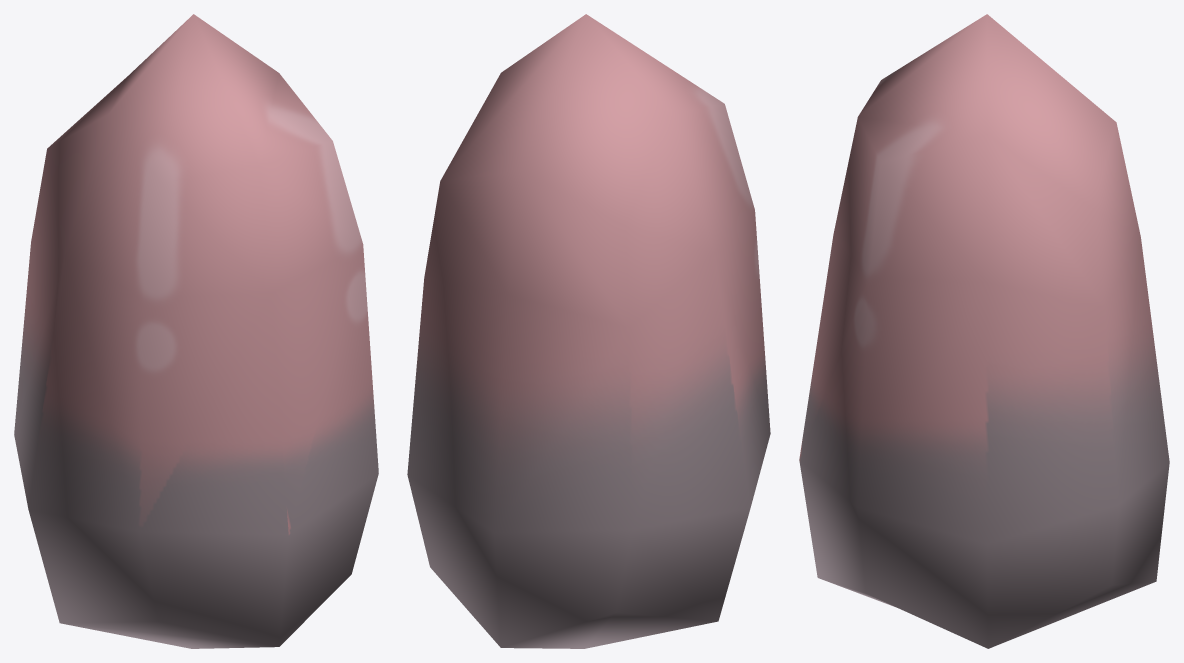
The model's file is Monstorsity.fbx.
The picture shows the model from 3 angles, left to right: view 1: azimuth 30°, elevation 25°; view 2: azimuth 150°, elevation 25°; view 3: azimuth 270°, elevation 25°; orthographic projection.
Visible parts, largest first — view 1: drop1; view 2: drop1; view 3: drop1.
Boxes of the visible parts, box(x1,y1,x2,y2) form: drop1: box(14, 14, 378, 648); drop1: box(407, 14, 770, 648); drop1: box(799, 14, 1169, 648).
Bounding box in the file's own units: 20.85 × 38.37 × 20.47.
Materials: 1 (1 with a texture image).
